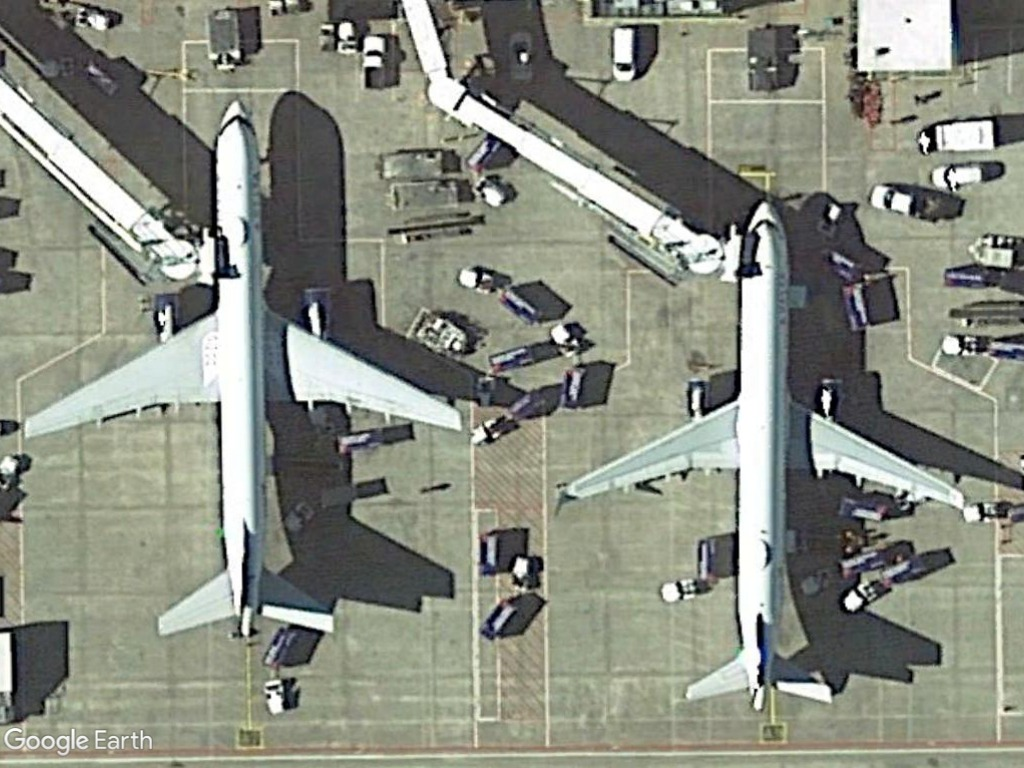airliner: (17, 96, 463, 651), (563, 190, 963, 713)
truck: (912, 116, 1001, 157)
van: (609, 22, 641, 87)
